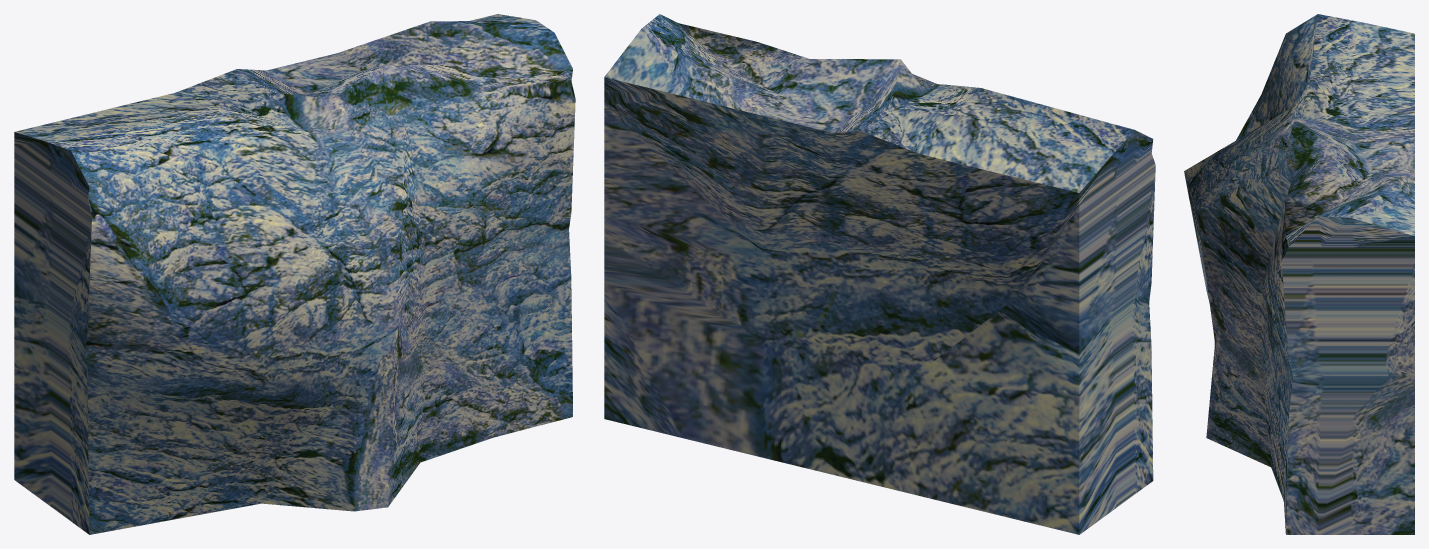
File: rockWall_bulge_01.fbx
The picture shows the model from 3 angles, left to right: view 1: azimuth 30°, elevation 25°; view 2: azimuth 150°, elevation 25°; view 3: azimuth 270°, elevation 25°; orthographic projection. The views are drawn at different scales.
Parts seen in each view (by area): view 1: pPlane16; view 2: pPlane16; view 3: pPlane16.
Part boxes in pixels (x1,y1,x2,y2): pPlane16: [14, 14, 575, 534]; pPlane16: [604, 14, 1155, 534]; pPlane16: [1184, 14, 1414, 534].
Bounding box in the file's own units: 16 × 11.73 × 7.71.
